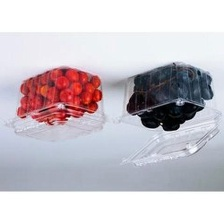plastic_box: (105, 55, 224, 173), (0, 59, 124, 147)
